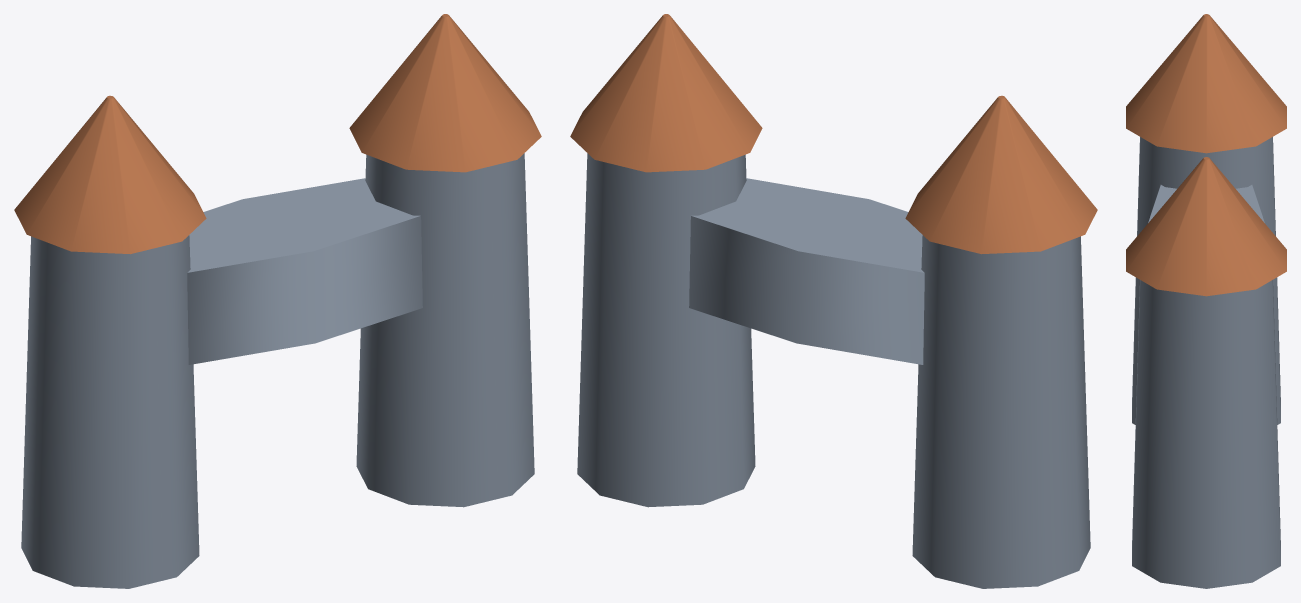
The model's file is city_gate.glb.
3 renders of one model, left to right at view 1: azimuth 30°, elevation 25°; view 2: azimuth 150°, elevation 25°; view 3: azimuth 270°, elevation 25°, orthographic. The views are drawn at different scales.
Parts seen in each view (by area): view 1: gate_towers, gate_roofs; view 2: gate_towers, gate_roofs; view 3: gate_towers, gate_roofs.
Part boxes in pixels (box(x1,y1,x2,y2)): gate_towers: box(21, 153, 534, 588); gate_roofs: box(14, 14, 541, 254); gate_towers: box(577, 153, 1090, 588); gate_roofs: box(570, 14, 1097, 254); gate_towers: box(1132, 137, 1280, 588); gate_roofs: box(1126, 14, 1286, 296).
Bounding box in the file's own units: 16.2 × 14 × 5.14.
